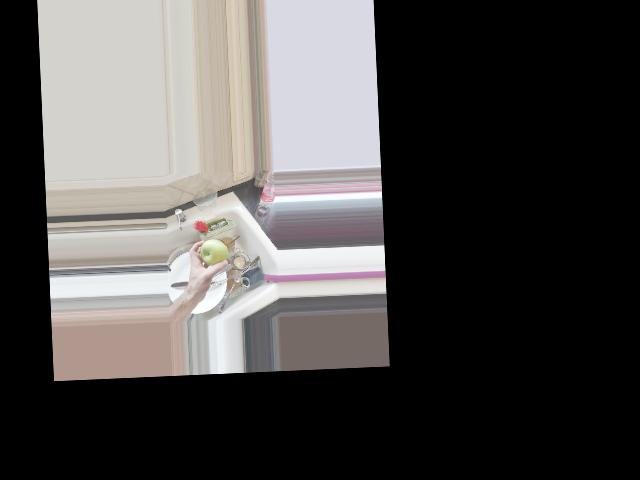apple: (197, 237, 229, 269)
